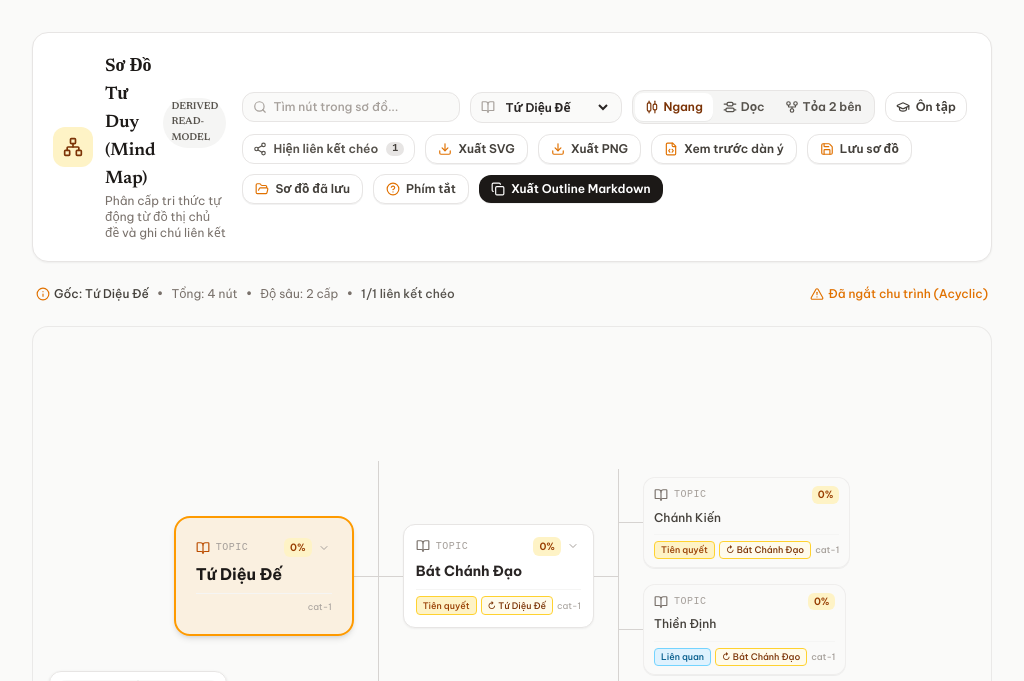
Test: Mind Map Track B2a: Interactive Cycle Badge Navigation & Target Focus › 2. MindMapView Focus & Uncollapse Orchestration › Scenario 4: Collapsing and expanding branches manages visibility cleanly
expect the element showing "topic 0% Tứ Diệu Đế cat-1" is shown: met, box x1=174 y1=516 x2=354 y2=636
expect the element showing "topic 0% Bát Chánh Đạo Tiên quyết ↻ Tứ Diệu Đế cat-1" is shown: met, box x1=403 y1=524 x2=594 y2=628
# Collapse topic-b so children topic-c and topic-d are hidden
Click the button named "Thu gọn nhánh Bát Chánh Đạo" at (573, 546), box x1=565 y1=538 x2=581 y2=554
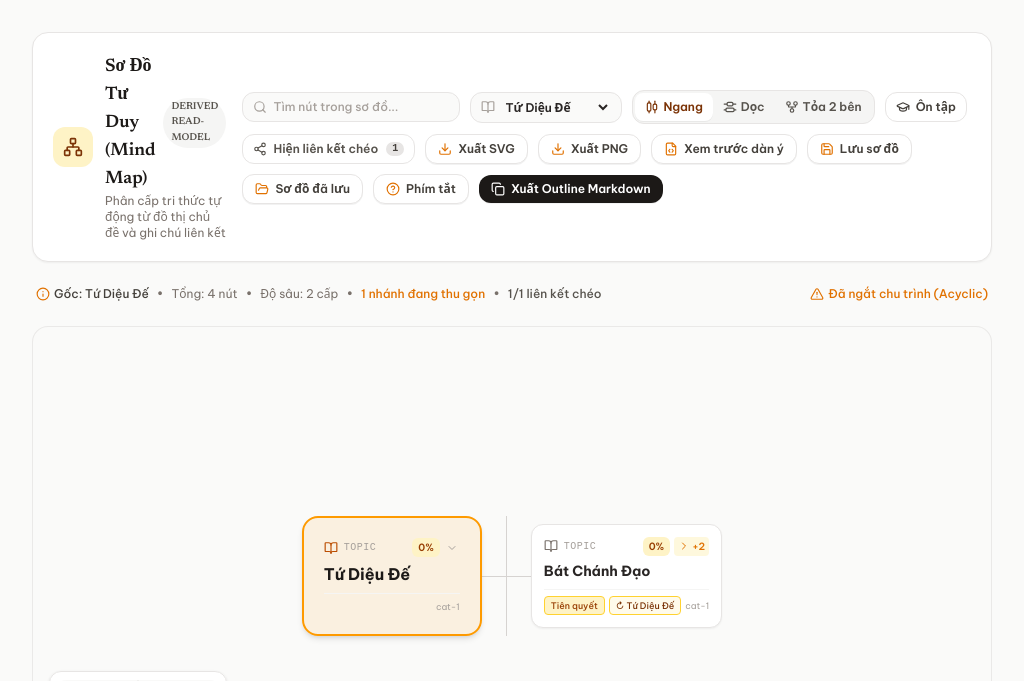
# Collapse topic-a so topic-b is also hidden
Click the button named "Thu gọn nhánh Tứ Diệu Đế" at (452, 548), box x1=444 y1=540 x2=460 y2=556
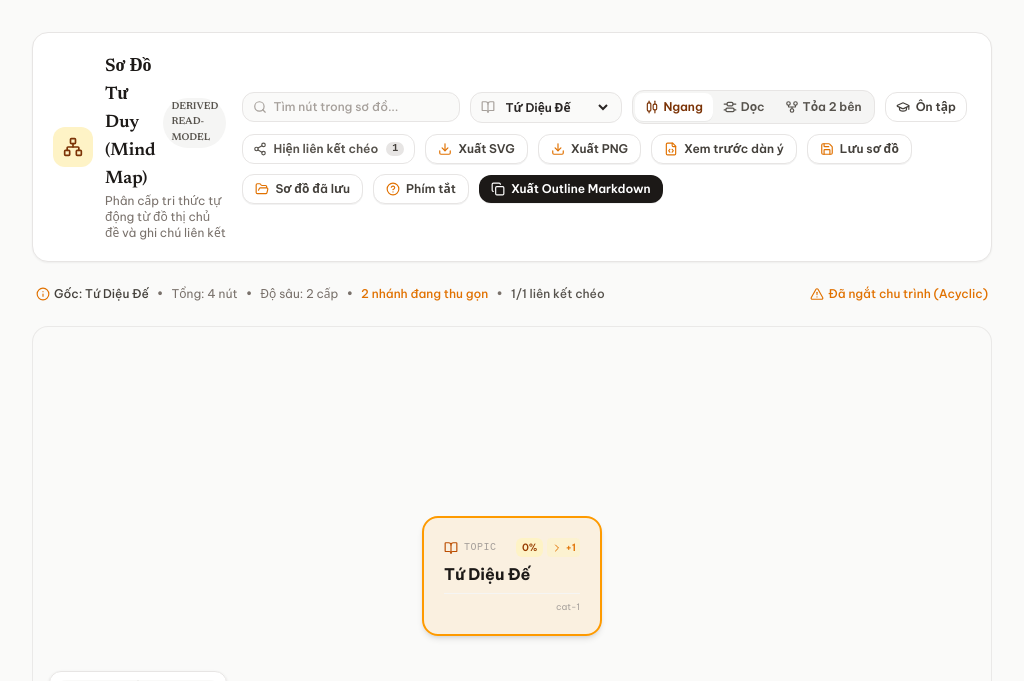
# Re-expand topic-a
Click the button named "Mở rộng nhánh Tứ Diệu Đế" at (564, 548), box x1=548 y1=538 x2=580 y2=557
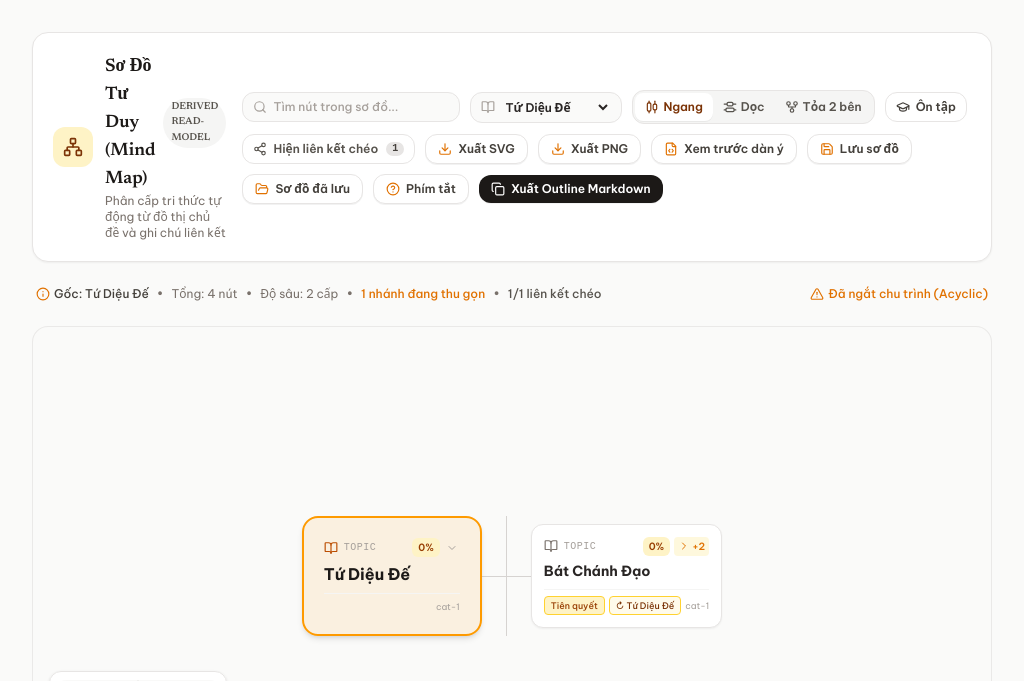
expect the element showing "topic 0% +2 Bát Chánh Đạo Tiên quyết ↻ Tứ Diệu Đế cat-1" is shown: met, box x1=531 y1=524 x2=722 y2=628
# Re-expand topic-b
Click the button named "Mở rộng nhánh Bát Chánh Đạo" at (692, 546), box x1=674 y1=537 x2=709 y2=556
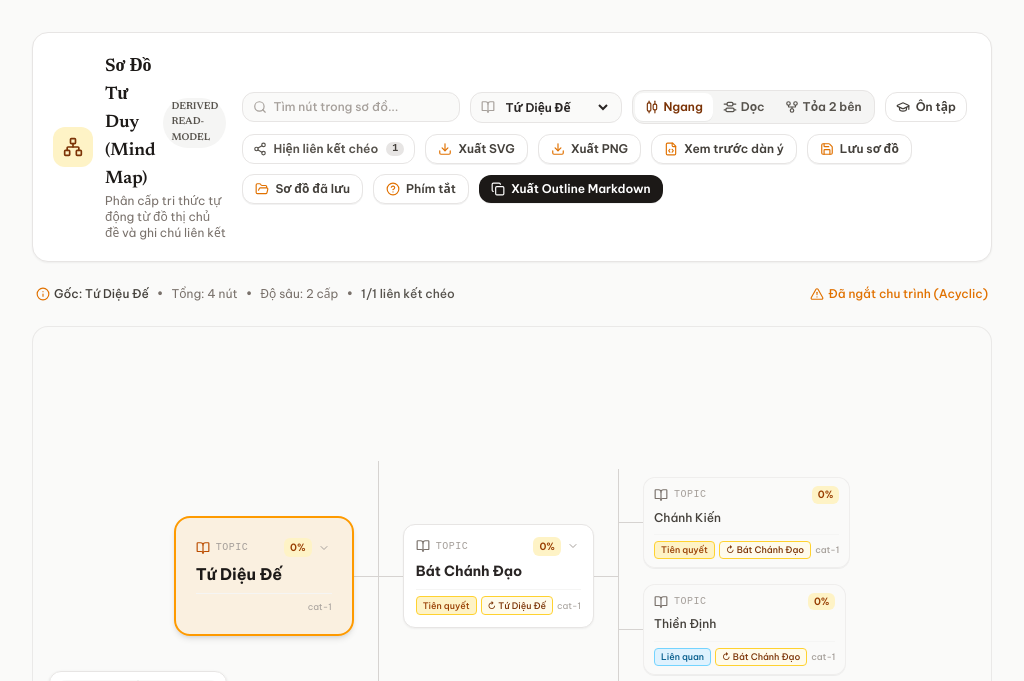
expect the element showing "topic 0% Chánh Kiến Tiên quyết ↻ Bát Chánh Đạo cat-1" is shown: met, box x1=643 y1=477 x2=850 y2=568
expect the element showing "topic 0% Thiền Định Liên quan ↻ Bát Chánh Đạo cat-1" is shown: met, box x1=643 y1=584 x2=846 y2=675
